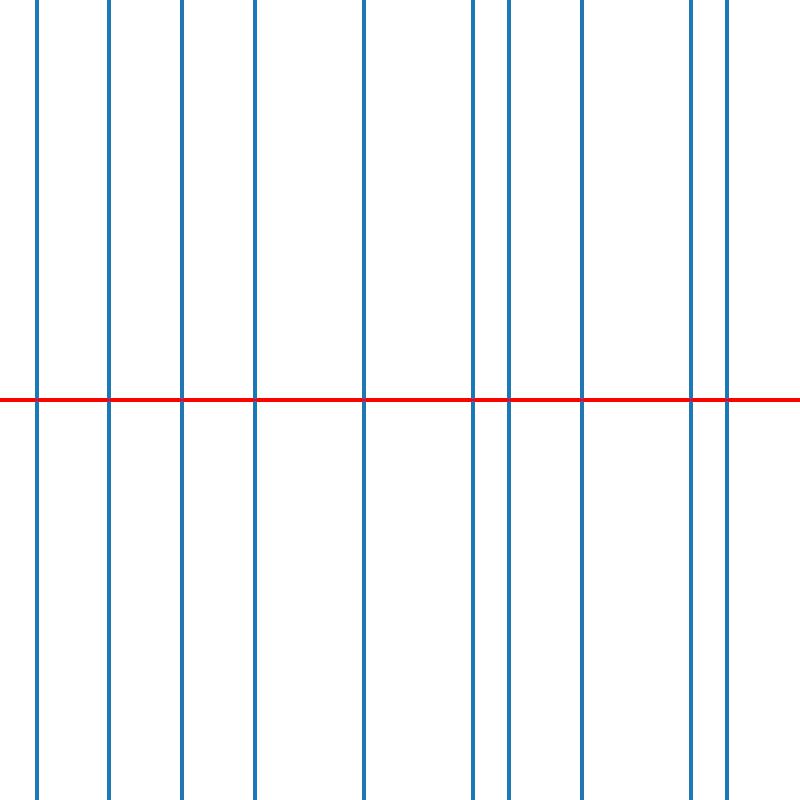root: (250, 396, 258, 404), (32, 396, 40, 404), (360, 396, 367, 404), (469, 396, 476, 404), (505, 396, 512, 404), (723, 396, 730, 404), (687, 396, 694, 404), (105, 396, 112, 404), (578, 396, 585, 404), (178, 396, 185, 404)
